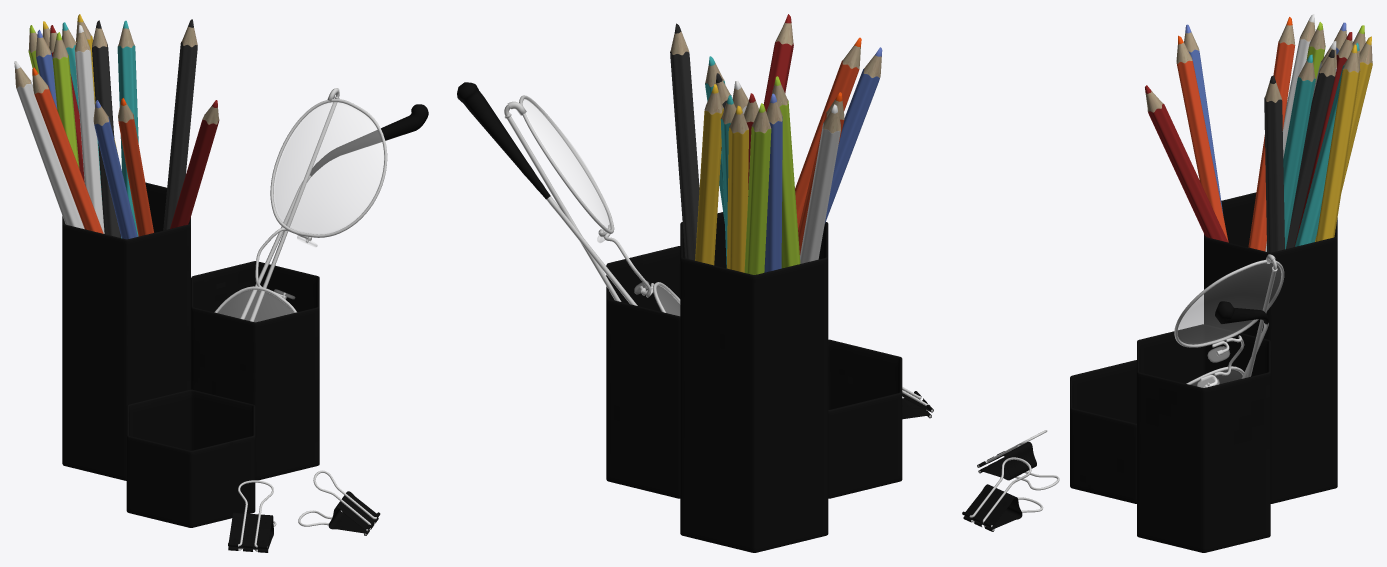
Rendered from organizer.glb.
The picture shows the model from 3 angles, left to right: view 1: azimuth 30°, elevation 25°; view 2: azimuth 150°, elevation 25°; view 3: azimuth 270°, elevation 25°; orthographic projection. The views are drawn at different scales.
Parts seen in each view (by area): view 1: Office_Decor_Organiser-Pen_03_0_3; view 2: Office_Decor_Organiser-Pen_03_0_3; view 3: Office_Decor_Organiser-Pen_03_0_3.
Boxes of the visible parts, left/top/right/bottom form: Office_Decor_Organiser-Pen_03_0_3: left=14, top=14, right=428, bottom=552; Office_Decor_Organiser-Pen_03_0_3: left=457, top=14, right=933, bottom=552; Office_Decor_Organiser-Pen_03_0_3: left=962, top=14, right=1372, bottom=552.
Size of the model in its own units: 0.1729 by 0.1841 by 0.159.
Materials: 24 (5 with a texture image).
